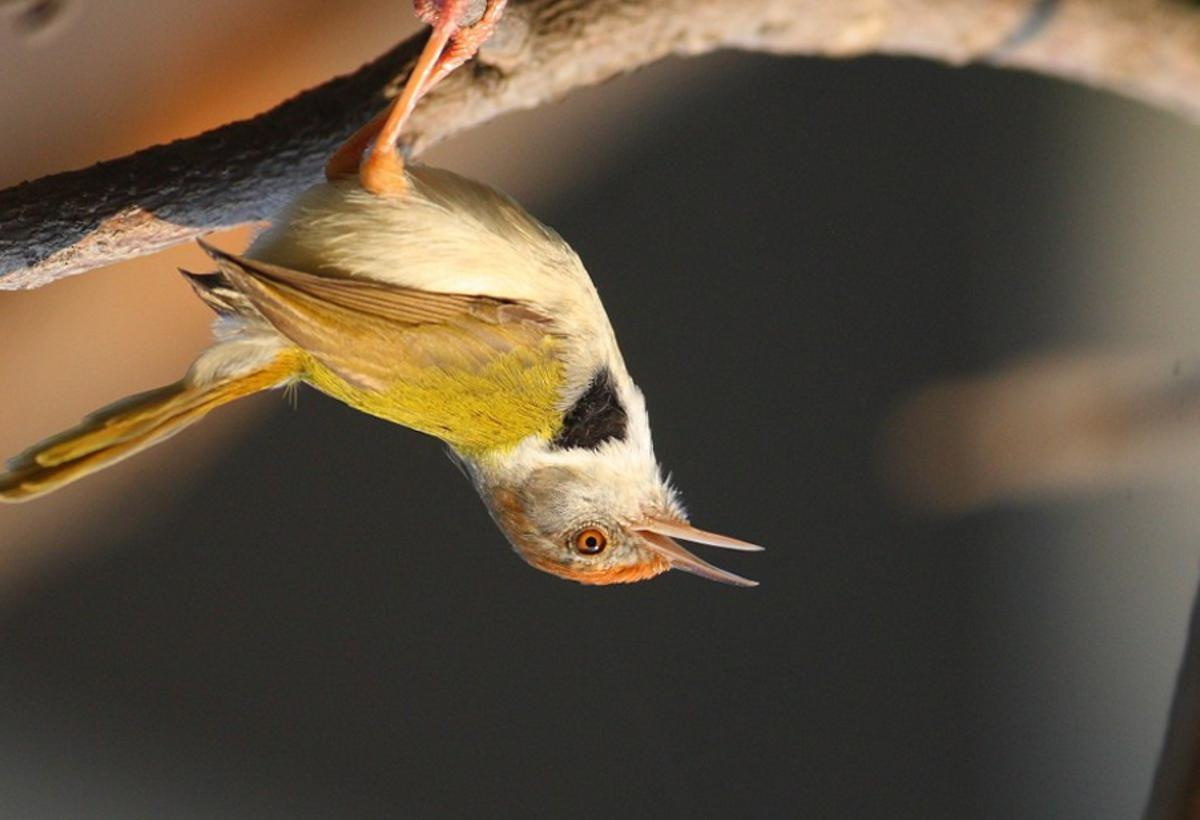tailorbird: (73, 93, 784, 646)
